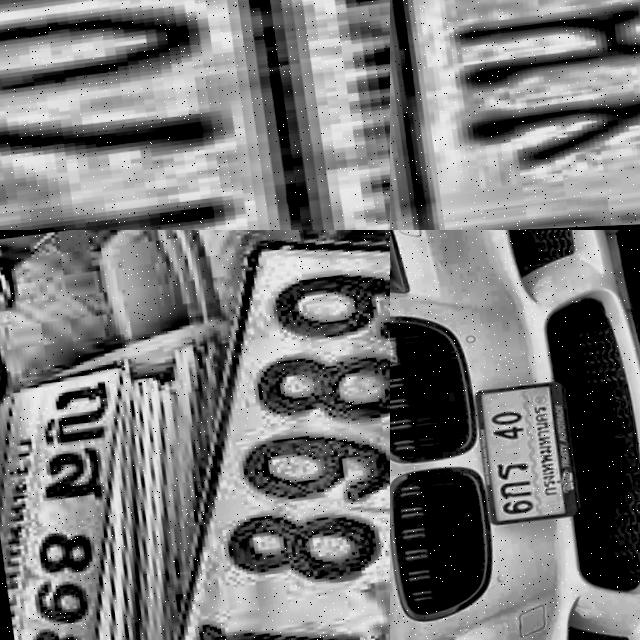license-plate: (57, 230, 390, 640), (0, 0, 390, 230), (390, 0, 640, 230), (466, 383, 579, 533)
